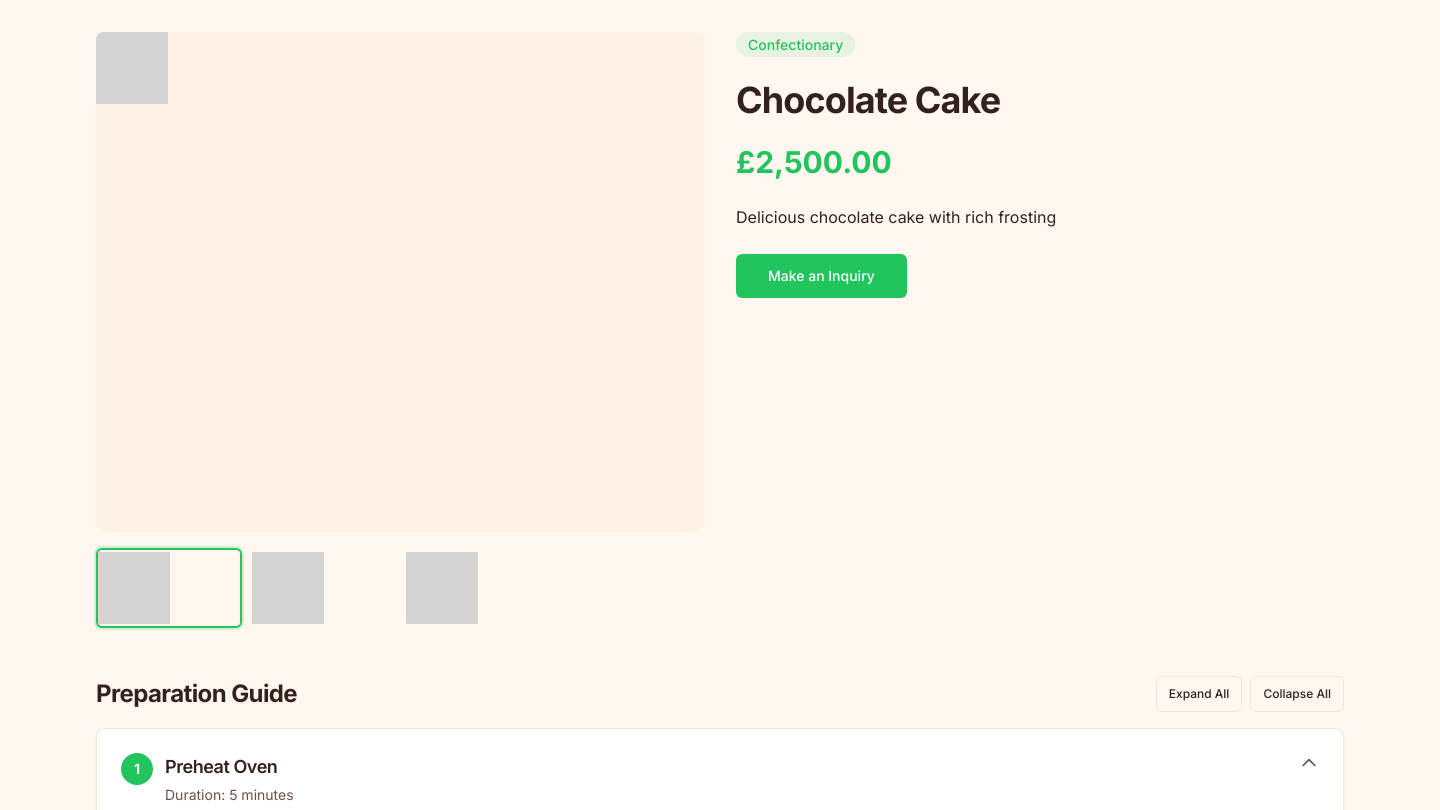
Test: ProductDetail › opens inquiry dialog when button is clicked
What coordinates should you click on to do the following:
click the button "Make an Inquiry"
I would click on:
 (821, 276)
Its box is [736,254,907,298].
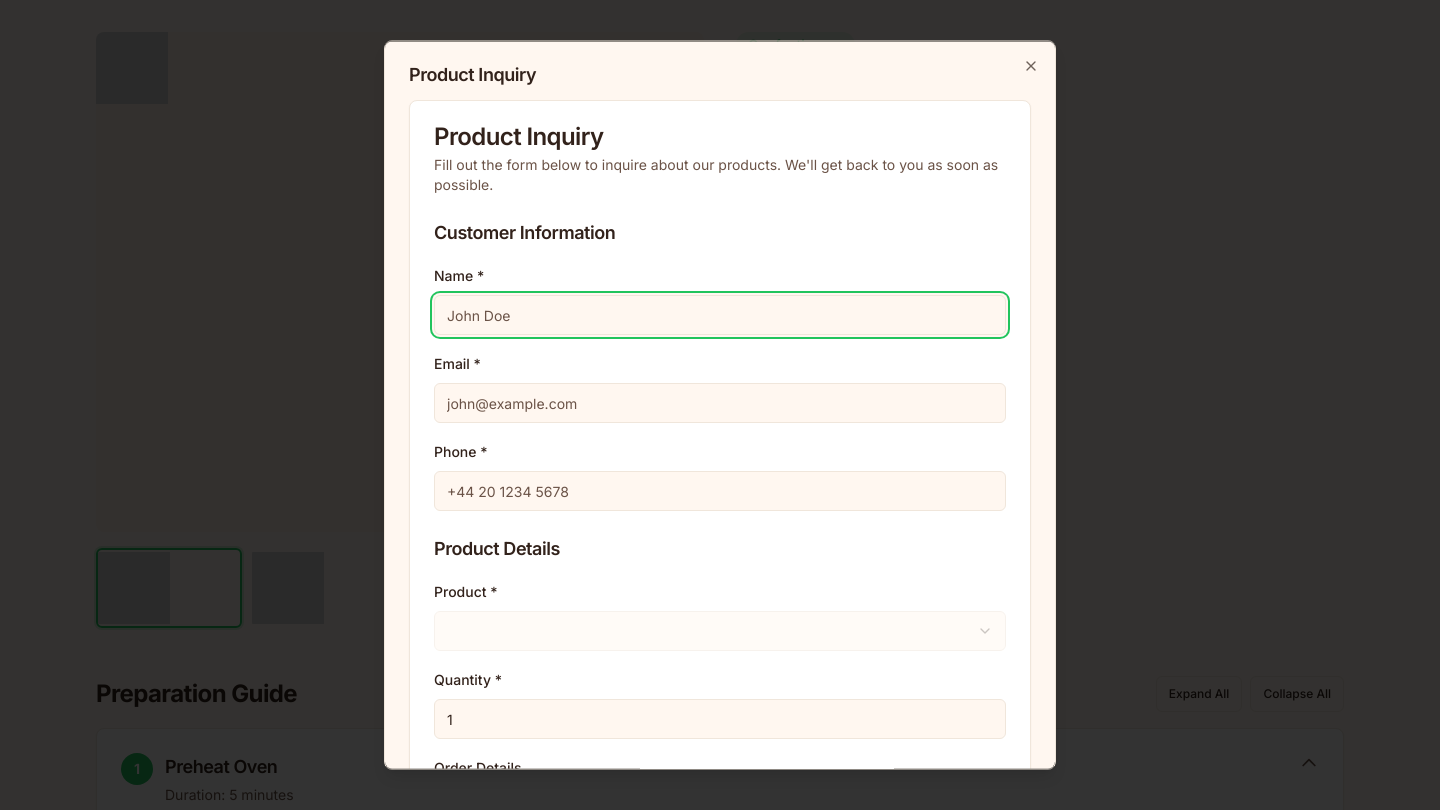
Result: the heading "Product Inquiry" is shown at [409,64,536,84]
Result: the field labelled "Name *" is shown at [434,294,1006,334]
Result: the field labelled "Email *" is shown at [434,382,1006,422]
